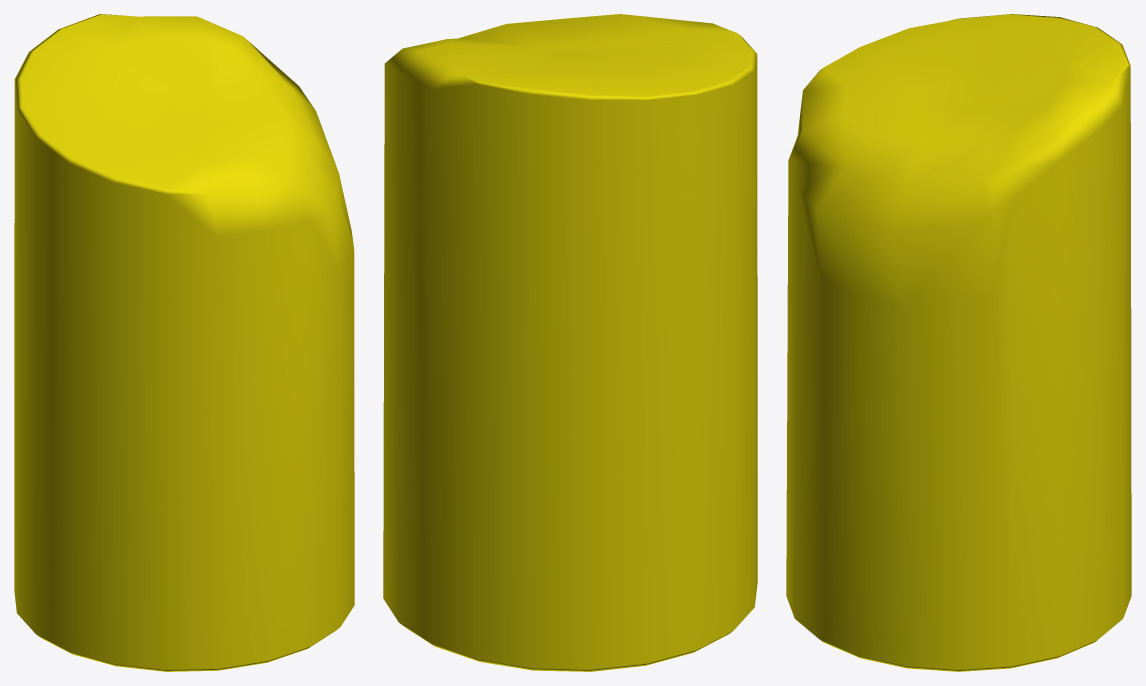
The model's file is Pillar_Break_02_Lod0.fbx.
3 views of the same model, side by side, from view 1: azimuth 30°, elevation 25°; view 2: azimuth 150°, elevation 25°; view 3: azimuth 270°, elevation 25° (orthographic). The views are drawn at different scales.
Visible parts, largest first — view 1: Pillar_Break_02_Lod0; view 2: Pillar_Break_02_Lod0; view 3: Pillar_Break_02_Lod0.
Boxes of the visible parts, left/top/right/bottom form: Pillar_Break_02_Lod0: left=14, top=14, right=354, bottom=671; Pillar_Break_02_Lod0: left=383, top=14, right=757, bottom=671; Pillar_Break_02_Lod0: left=786, top=14, right=1131, bottom=671.
Bounding box in the file's own units: 277 × 470 × 274.
